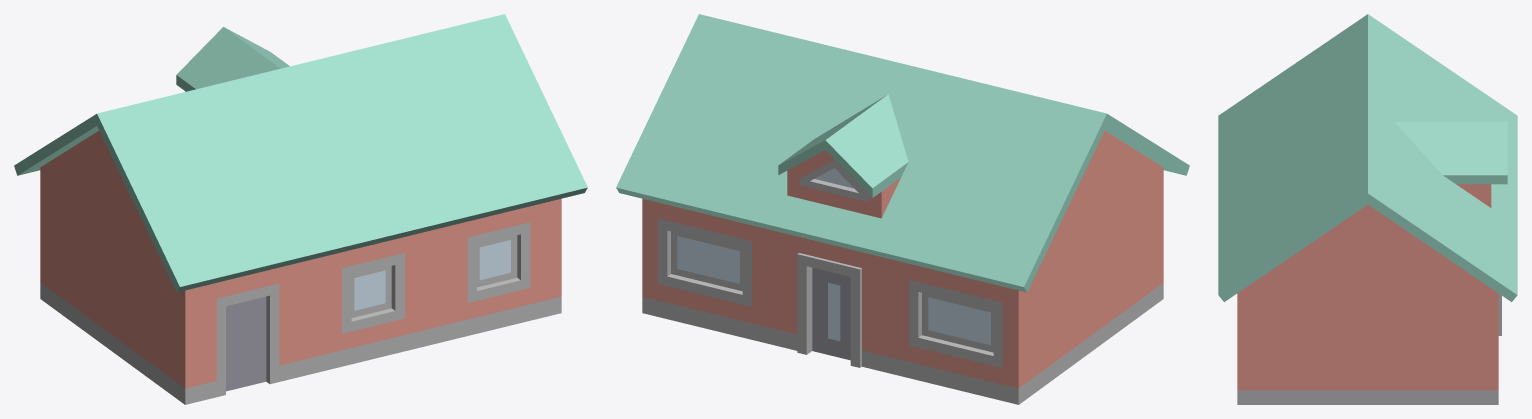
Rendered from house-type07.glb.
The picture shows the model from 3 angles, left to right: view 1: azimuth 30°, elevation 25°; view 2: azimuth 150°, elevation 25°; view 3: azimuth 270°, elevation 25°; orthographic projection. The views are drawn at different scales.
Visible parts, largest first — view 1: house_type07; view 2: house_type07; view 3: house_type07.
Boxes of the visible parts, box(x1,y1,x2,y2) form: house_type07: box(14, 14, 587, 404); house_type07: box(616, 14, 1189, 404); house_type07: box(1218, 14, 1517, 404).
Size of the model in its own units: 1.3 by 0.7375 by 0.9161.
1 material, 1 textured.
